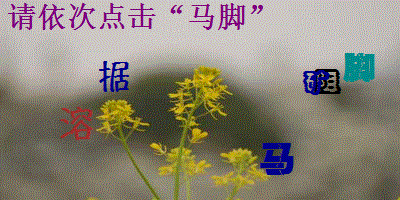result: (186, 1, 247, 32)
text: (58, 105, 96, 144), (257, 140, 296, 177), (97, 59, 132, 94), (342, 51, 377, 83), (313, 67, 342, 95), (300, 69, 329, 96)
